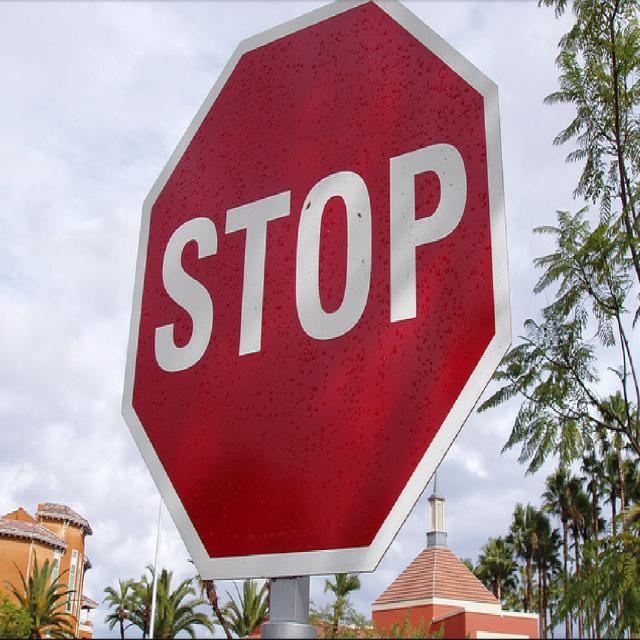STOP: (127, 0, 516, 570)
